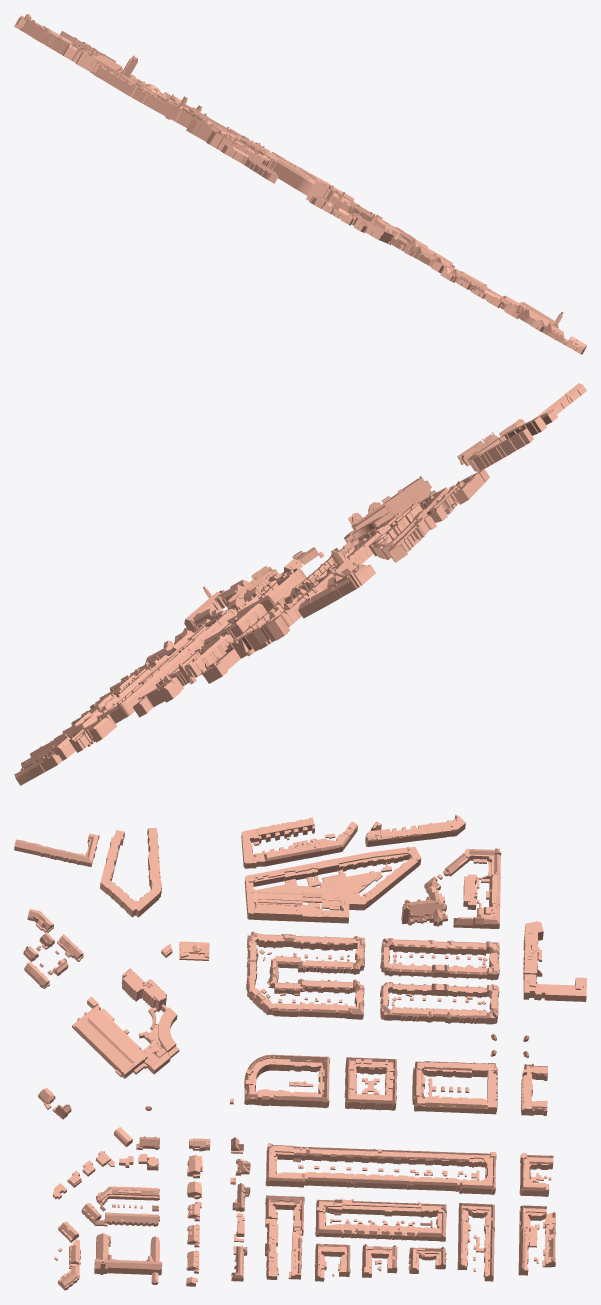
3 views of the same model, one above another, from view 1: azimuth 30°, elevation 25°; view 2: azimuth 150°, elevation 25°; view 3: azimuth 270°, elevation 25° (orthographic).
Bounding box in the file's own units: 1.74e+07 × 1.28e+07 × 2.23e+07.
